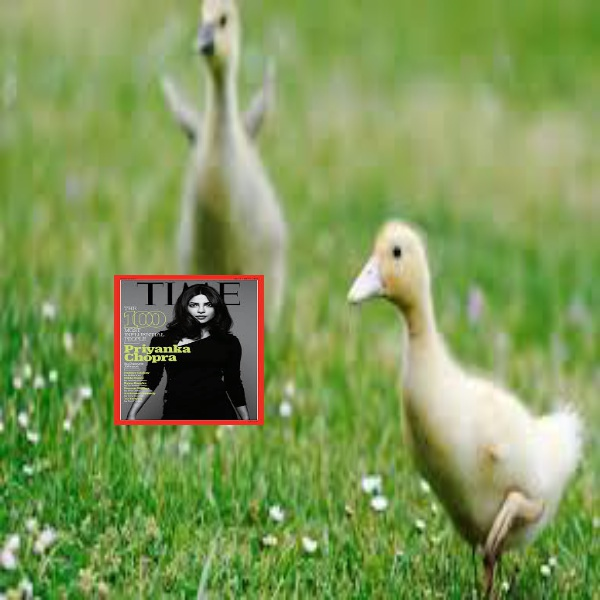time_cover: (114, 269, 262, 428)
